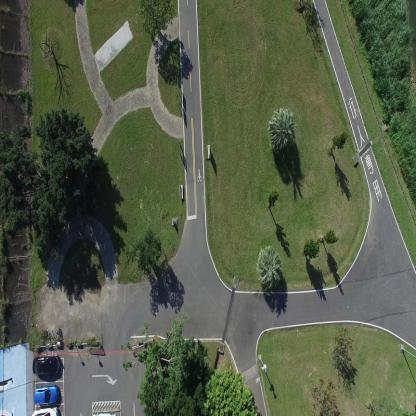car: (32, 353, 60, 375), (33, 383, 59, 404), (32, 404, 59, 415), (93, 411, 118, 415)
